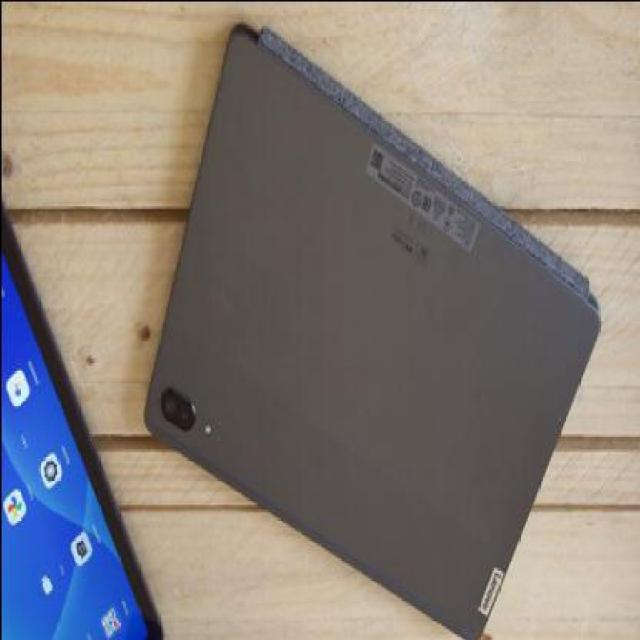laptop_computer: (93, 10, 556, 640)
